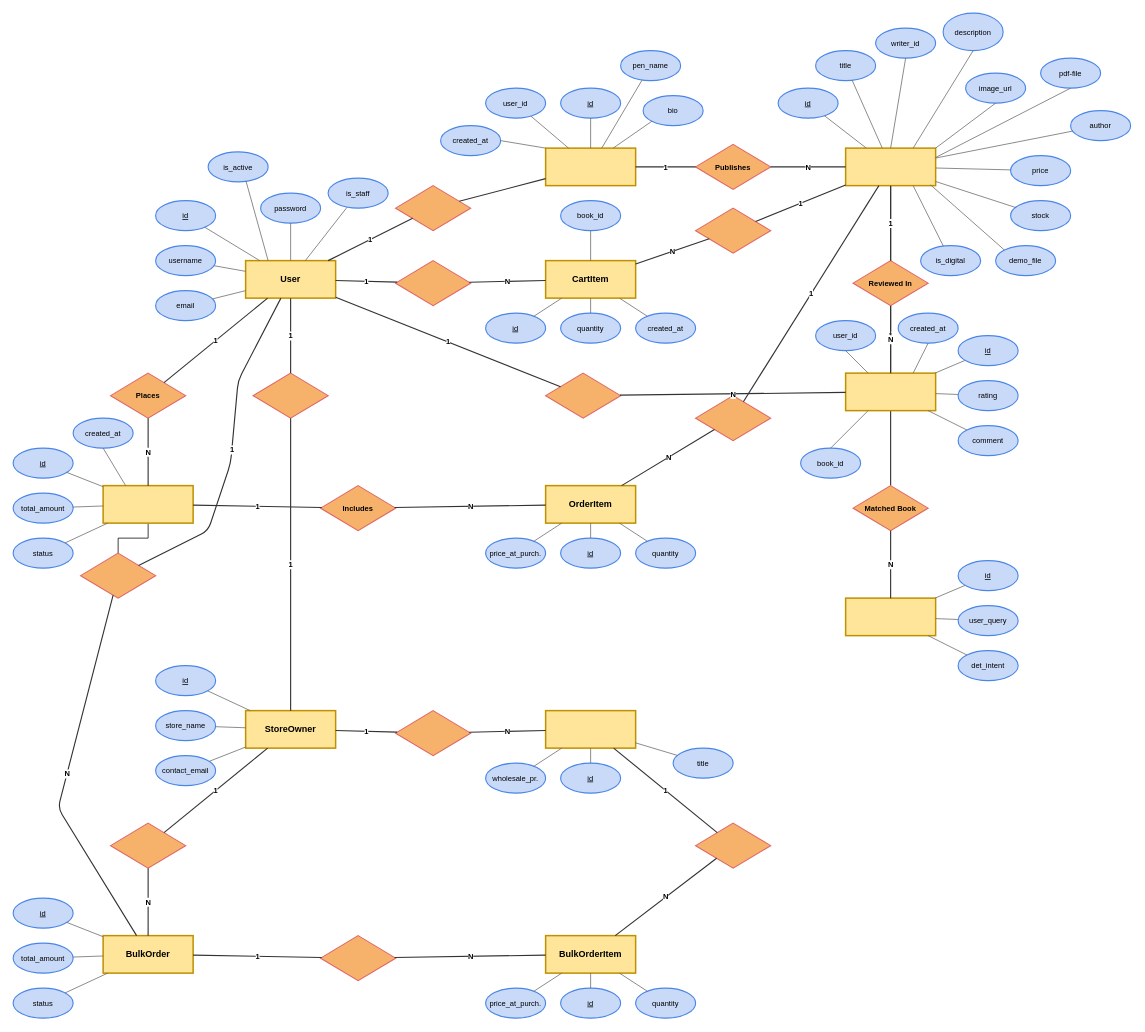
Some shapes in this 1145 by 1032 pixel diagram are drawn without their labels. The shapes that lost their labels are listed below. From the top down, each one's centre as x and y in pixels, then its label:
At (590,166): "WriterProfile".
At (890,166): "Book".
At (433,208): "Has Profile".
At (733,230): "Contains".
At (433,283): "Has Cart".
At (290,395): "Owns Store".
At (583,395): "Writes".
At (890,391): "Review".
At (733,418): "Ordered As".
At (148,504): "Order".
At (118,575): "Orders Bulk".
At (890,616): "ChatBotLog".
At (433,733): "Supplies".
At (590,729): "SupplierBook".
At (148,845): "Receives".
At (733,845): "In Bulk".
At (358,958): "Details".
